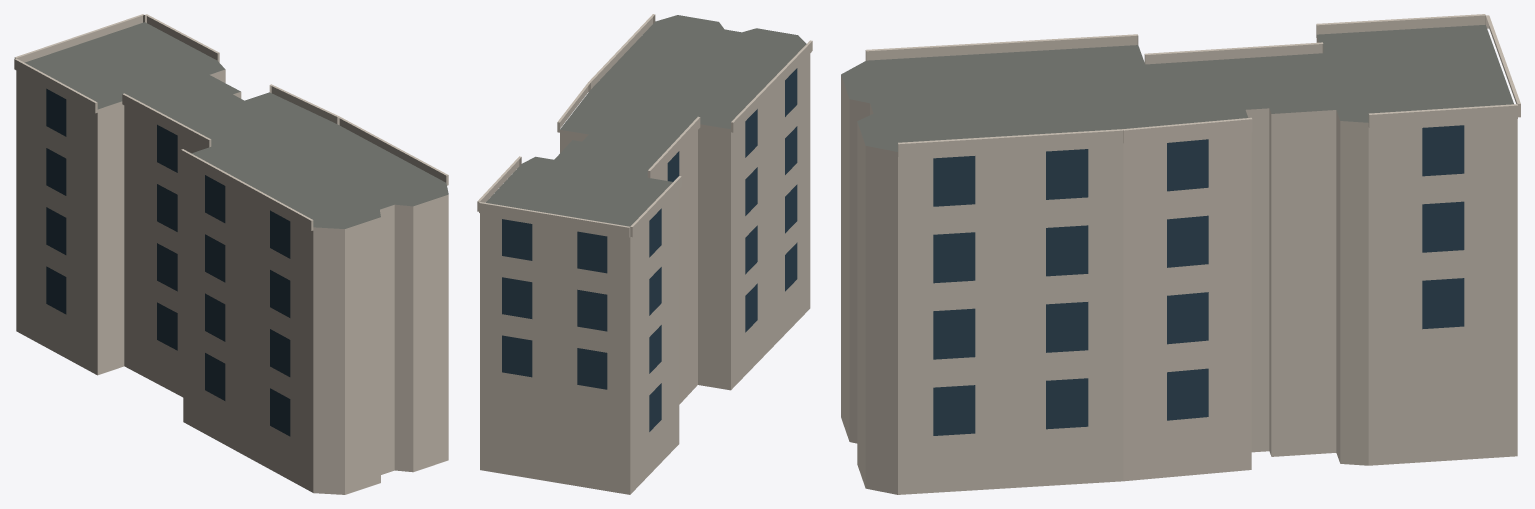
3 views of the same model, side by side, from view 1: azimuth 30°, elevation 25°; view 2: azimuth 150°, elevation 25°; view 3: azimuth 270°, elevation 25° (orthographic). The views are drawn at different scales.
Parts seen in each view (by area): view 1: Footprint 0 / surface 2, Footprint 0 / surface 1, Inset glazing, Facade bay volumes; view 2: Footprint 0 / surface 2, Footprint 0 / surface 1, Inset glazing, Facade bay volumes; view 3: Footprint 0 / surface 2, Footprint 0 / surface 1, Inset glazing, Facade bay volumes.
Part boxes in pixels (x1,y1,x2,y2): Footprint 0 / surface 2: (16,69,448,494); Footprint 0 / surface 1: (25,22,448,228); Inset glazing: (46,88,290,436); Facade bay volumes: (14,14,448,230); Footprint 0 / surface 2: (480,54,810,494); Footprint 0 / surface 1: (486,15,806,226); Inset glazing: (502,68,797,431); Facade bay volumes: (477,14,812,237); Footprint 0 / surface 2: (841,35,1517,494); Footprint 0 / surface 1: (841,24,1513,151); Inset glazing: (933,125,1464,435); Facade bay volumes: (865,14,1520,157).
Size of the model in its own units: 10.5 by 13.24 by 23.16.
